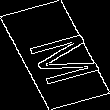M_E: (11, 25, 99, 85)
